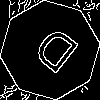D: (25, 25, 82, 83)
